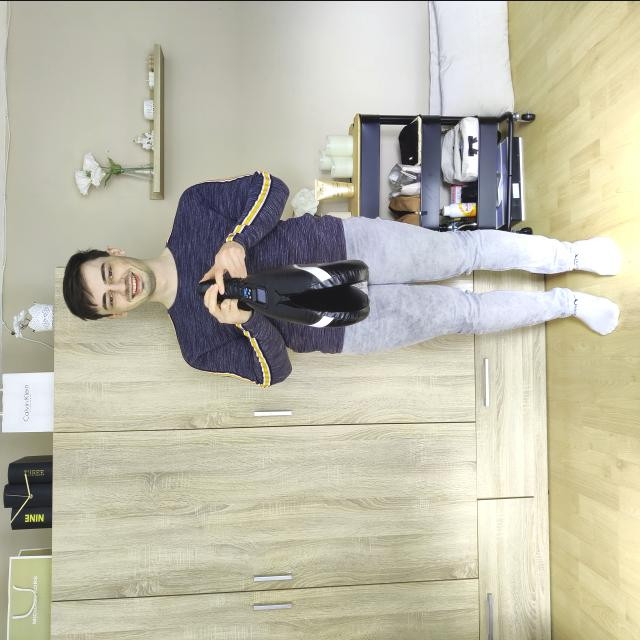paddle: (196, 256, 372, 328)
